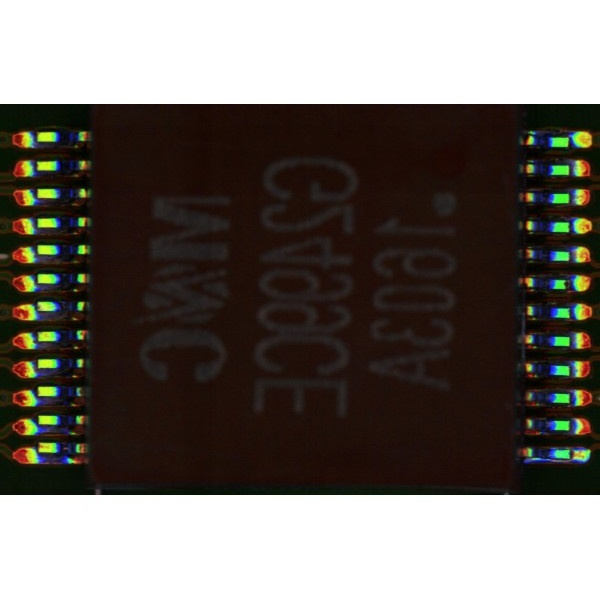Bad_podu: (565, 451, 579, 459)
Bad_qiaojiao: (526, 458, 570, 463)
